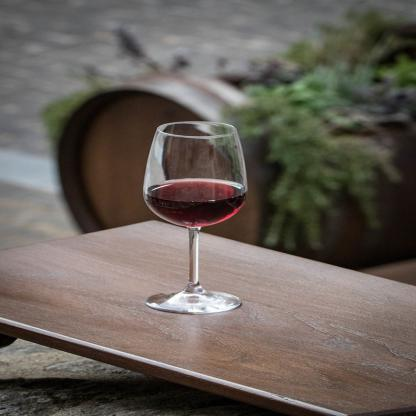drinking: (144, 121, 248, 315)
